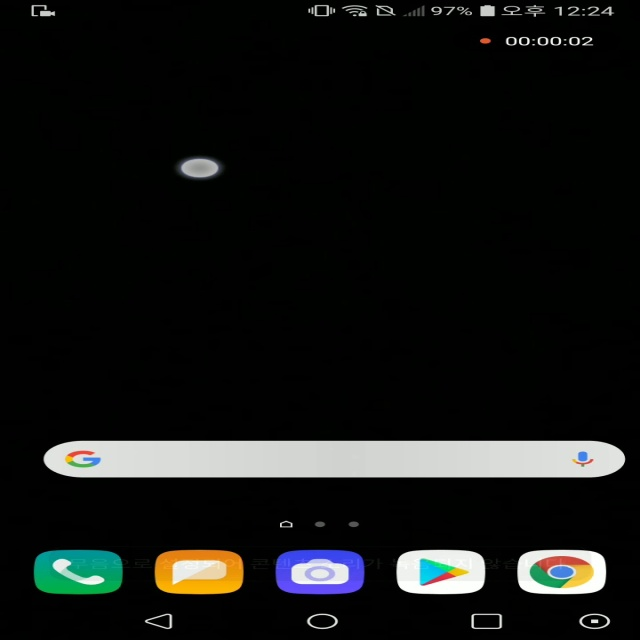Cursor: (179, 158, 224, 180)
